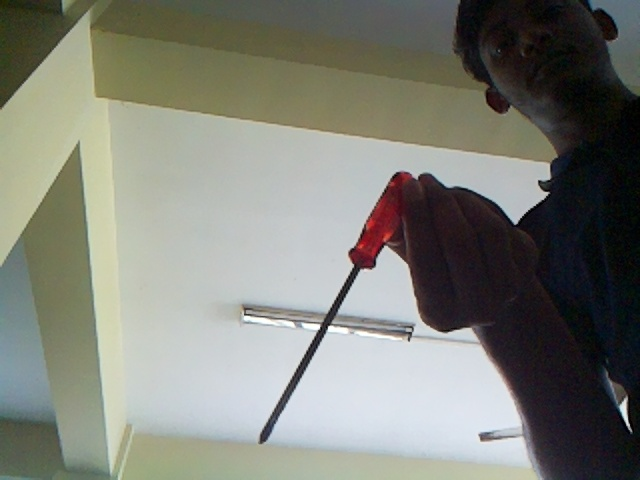redskrew: (253, 173, 422, 465)
